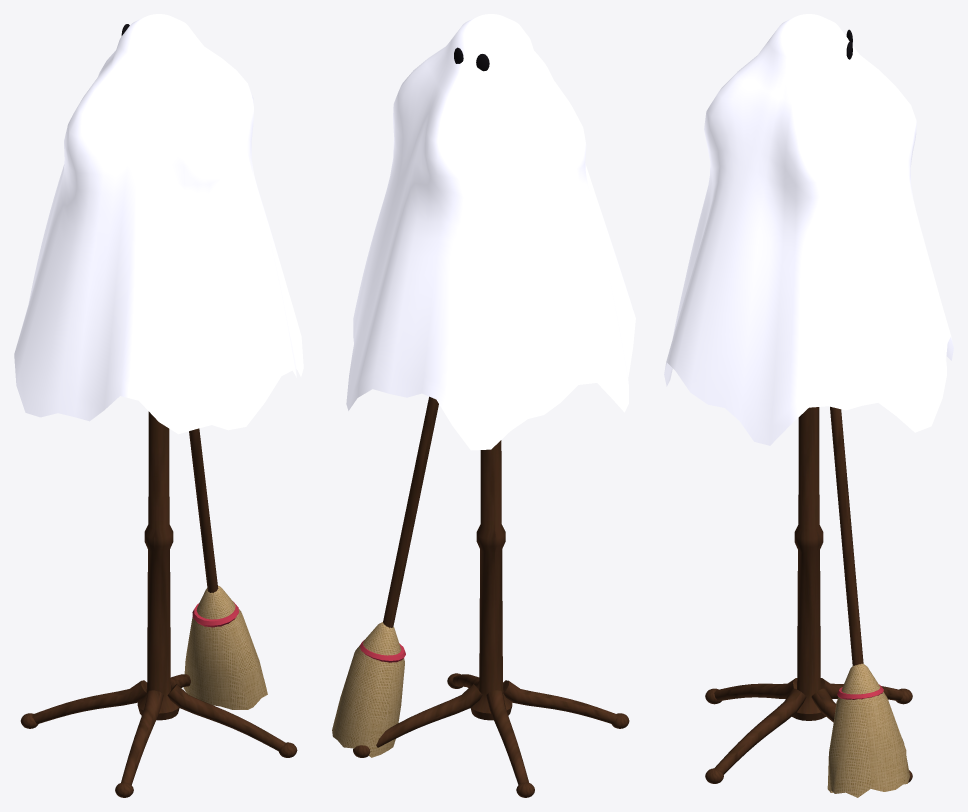
The model's file is manor_coatrack.glb.
3 views of the same model, side by side, from view 1: azimuth 30°, elevation 25°; view 2: azimuth 150°, elevation 25°; view 3: azimuth 270°, elevation 25° (orthographic).
Visible parts, largest first — view 1: Coatrack; view 2: Coatrack; view 3: Coatrack.
Part boxes in pixels (x1,y1,x2,y2): Coatrack: (14, 14, 303, 797); Coatrack: (332, 14, 635, 797); Coatrack: (664, 14, 953, 797).
Size of the model in its own units: 0.7164 by 1.86 by 0.6729.
6 materials, 2 textured.
